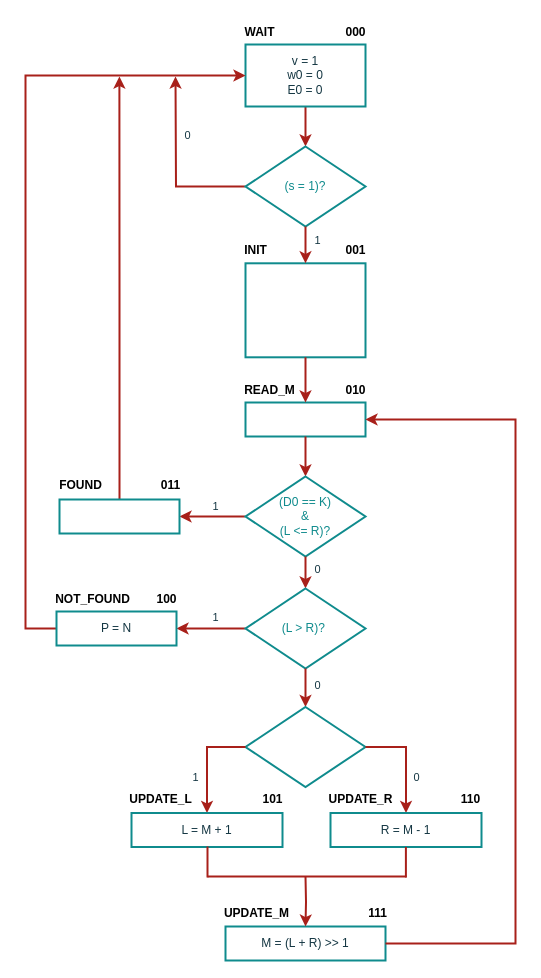
Some shapes in this 541 by 978 pixel diagram are drawn without their labels. Each missing label, with the centre of its shape:
"(D0 < K)?" goes at (305,747).
"A0 = M" goes at (305,419).
"P = M" goes at (119,516).
"v = 0 P = N L = 0 R = N - 1 M = (N - 1) >> 1" goes at (305,310).
